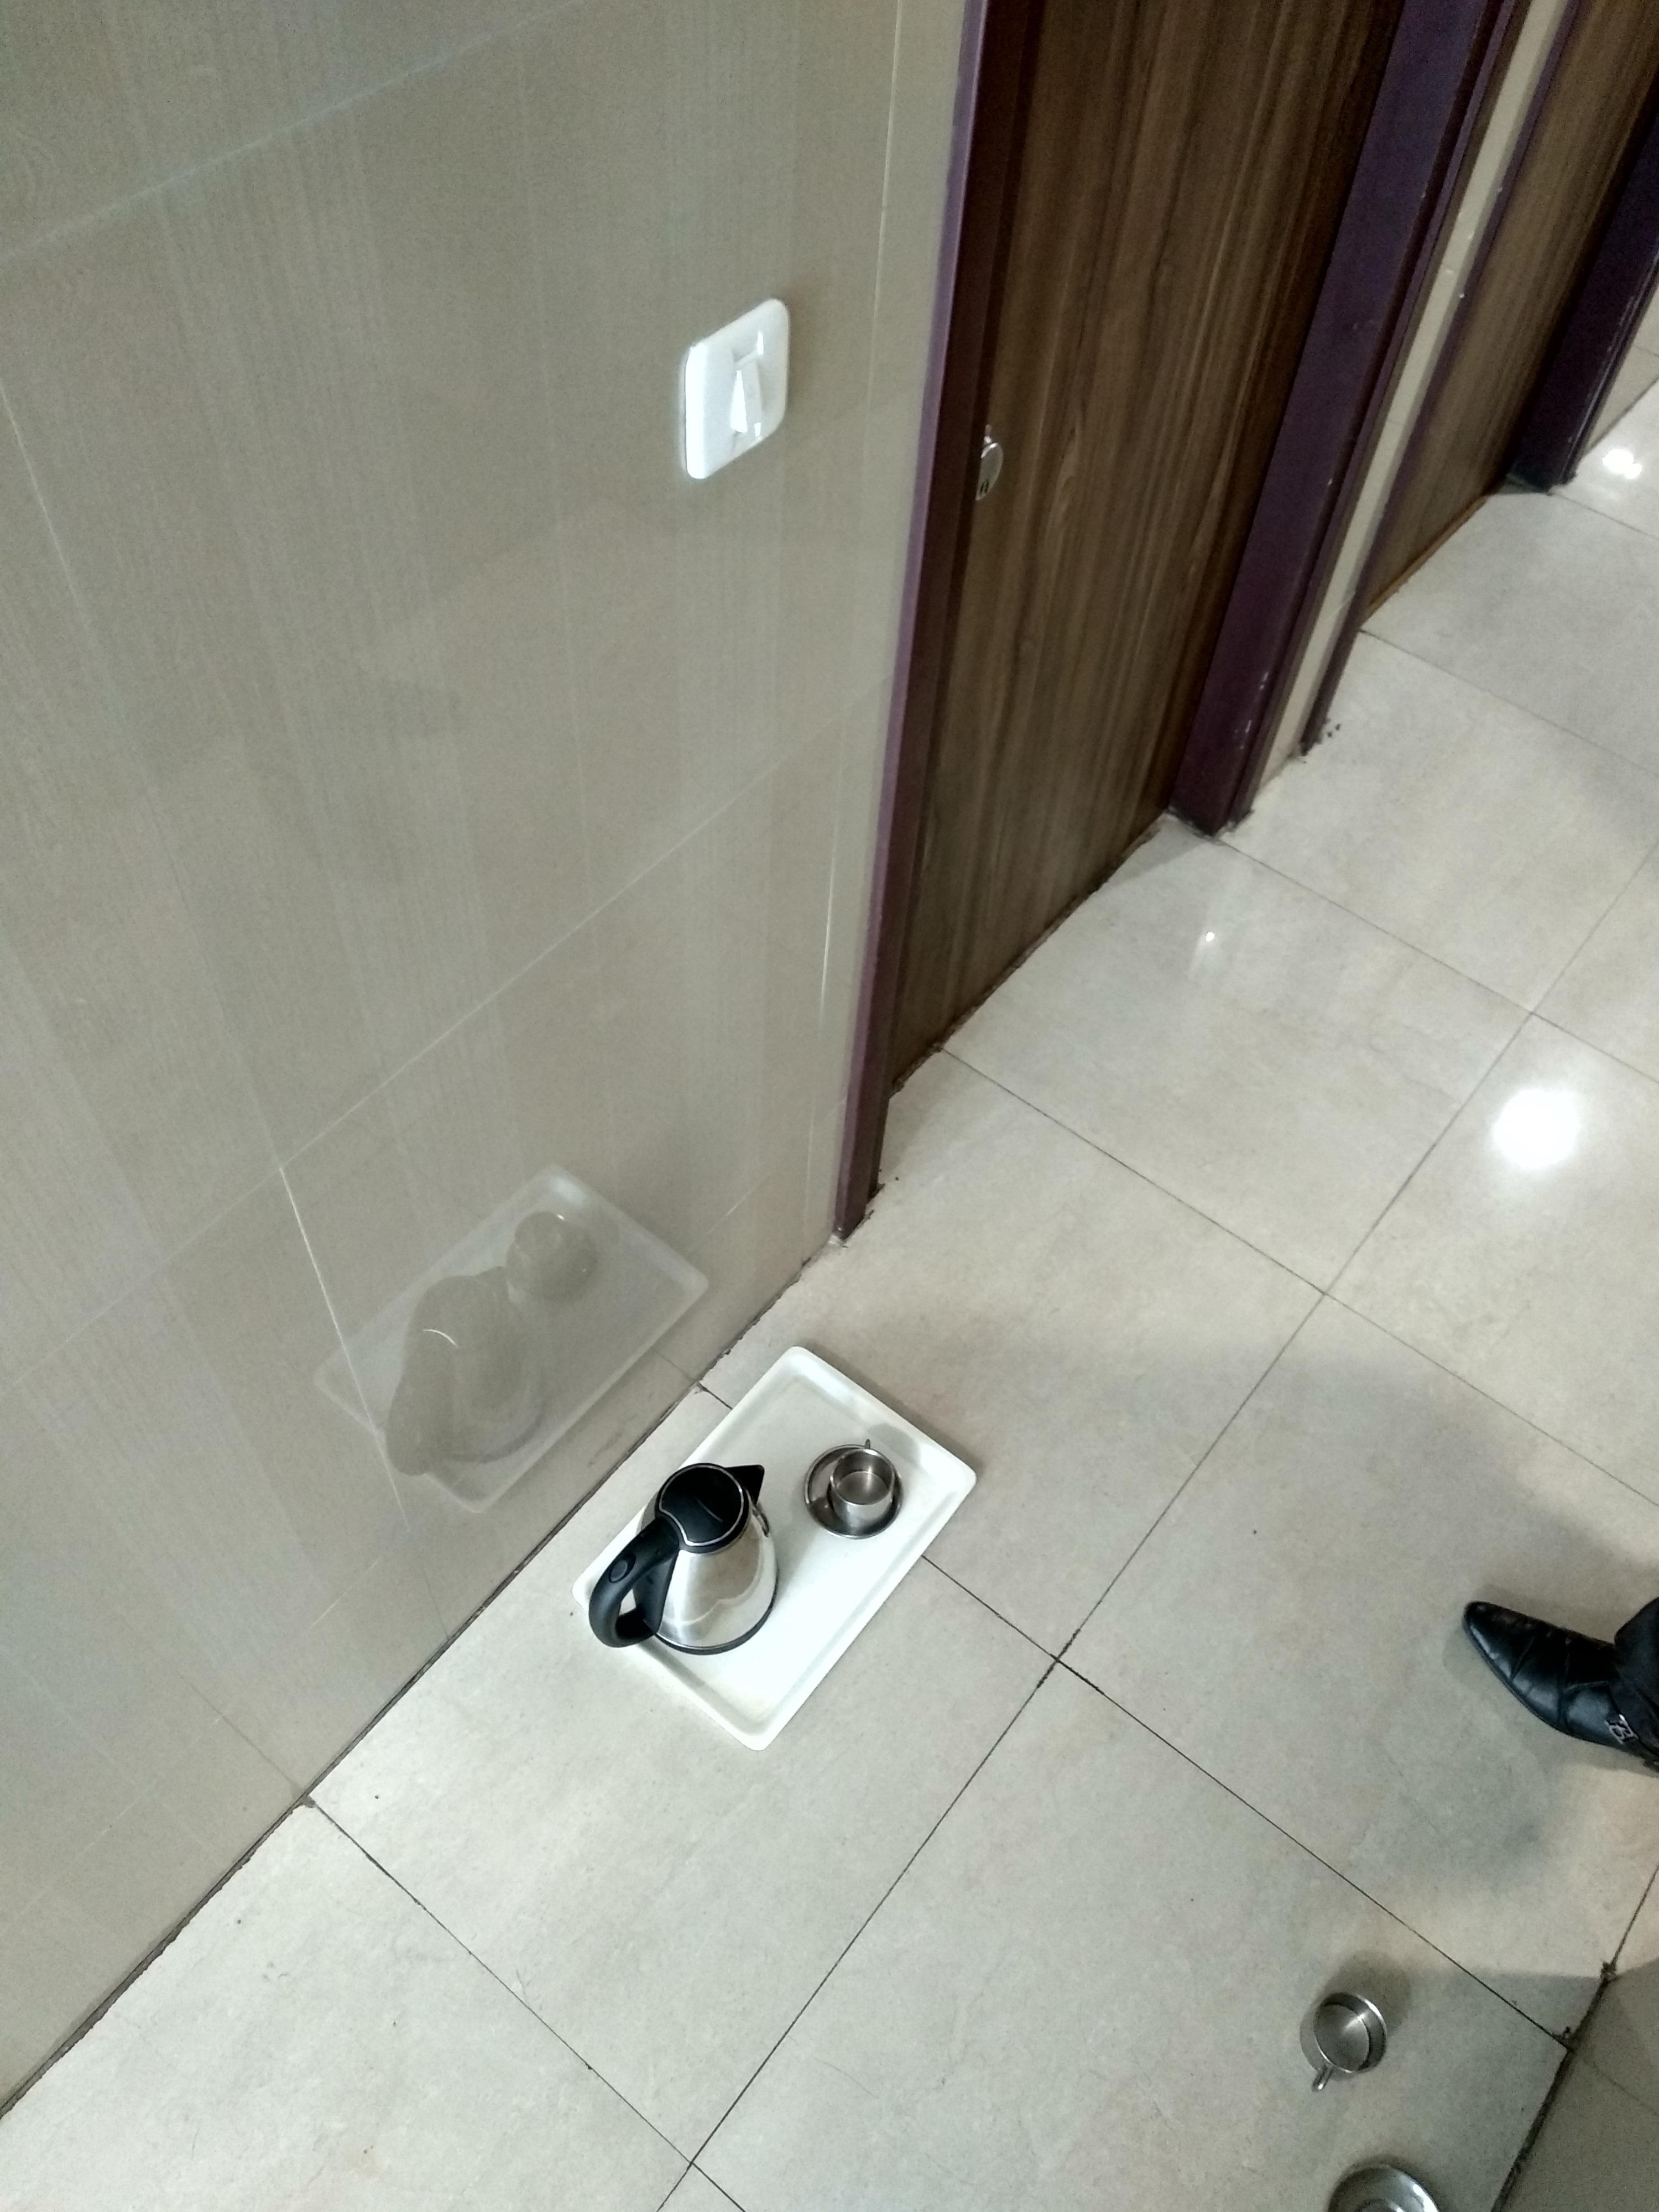CUP: (1295, 1996, 1396, 2081), (842, 1460, 904, 1531)
FLASK: (615, 1470, 767, 1662)
